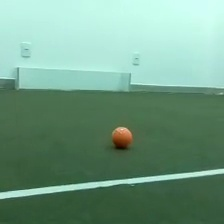ball: (109, 124, 134, 151)
goal: (14, 65, 133, 93)
